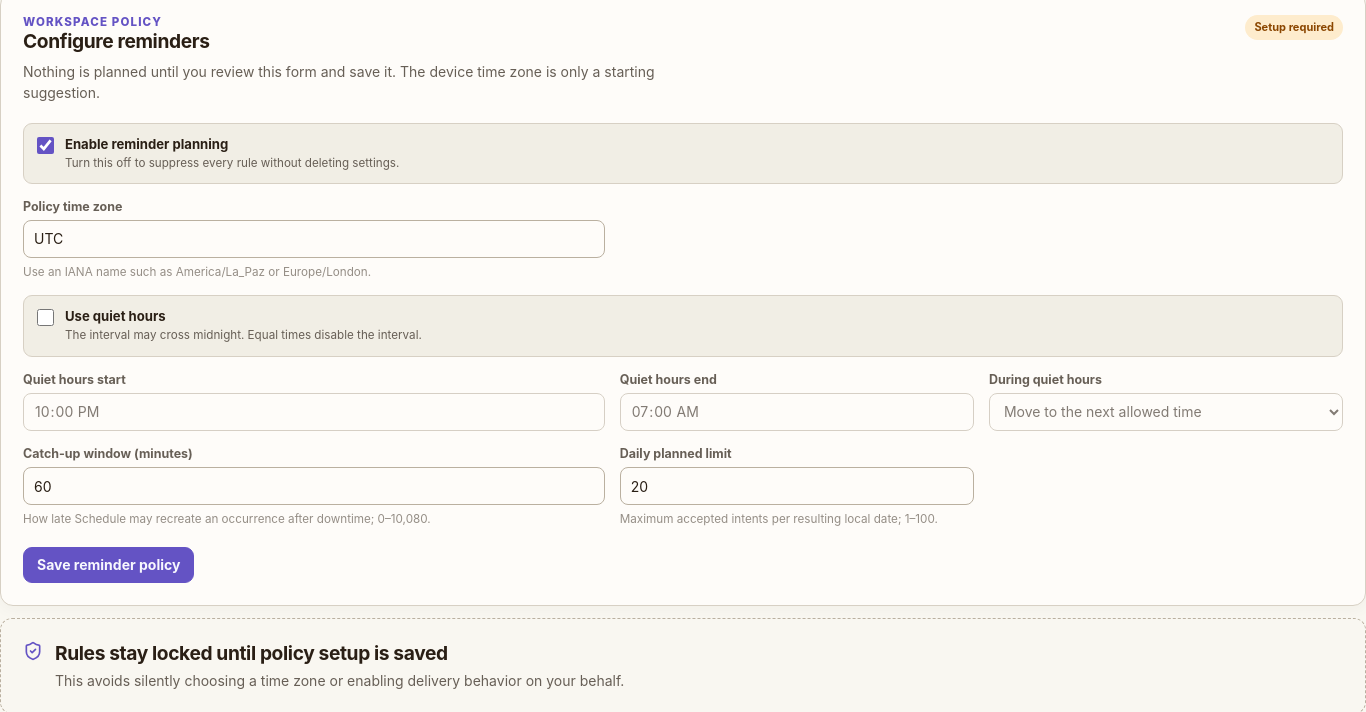
RemindersView › requires an explicit policy save and never silently creates a default profile
(page scrolled)
Expected: the heading "Configure reminders" is shown, [23,29,210,53]
Expected: the heading "Rules stay locked until policy setup is saved" is shown, [55,641,448,665]
Click the button "Save reminder policy" at (109, 565), box [23,547,194,583]
(page scrolled)
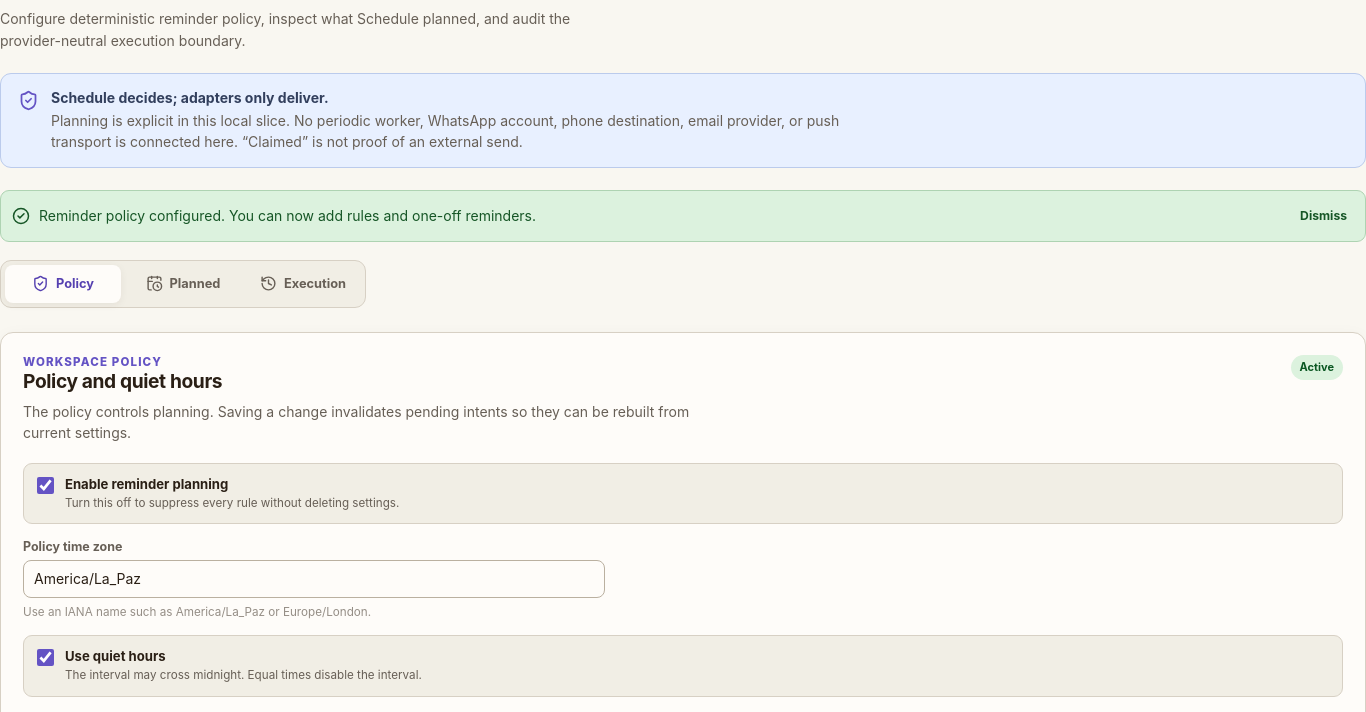
Expected: the text "Reminder policy configured" is shown, [39,207,536,224]
